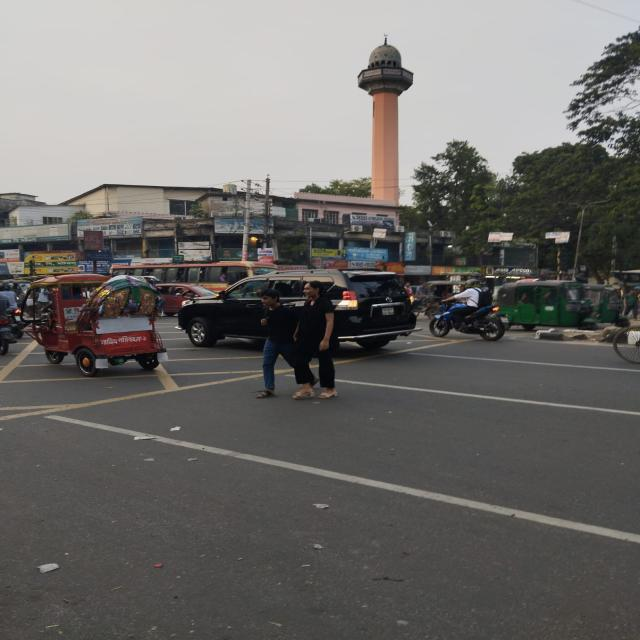person: (255, 289, 312, 399), (292, 281, 338, 399)
